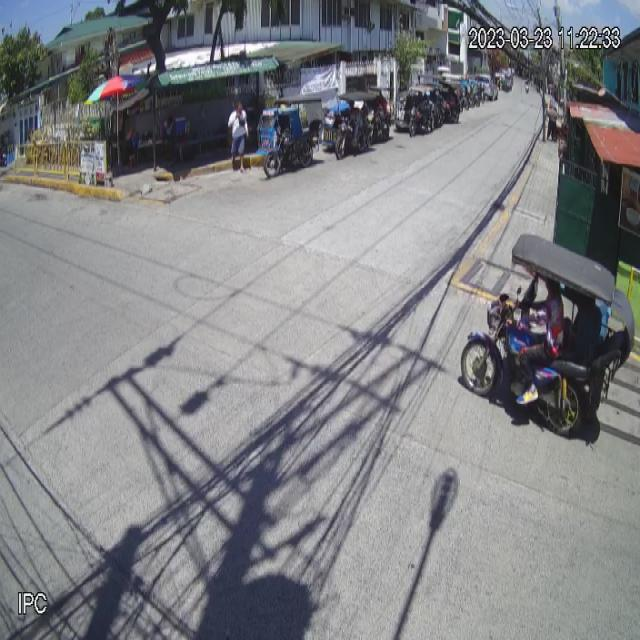Motorcycle: (460, 235, 616, 440)
